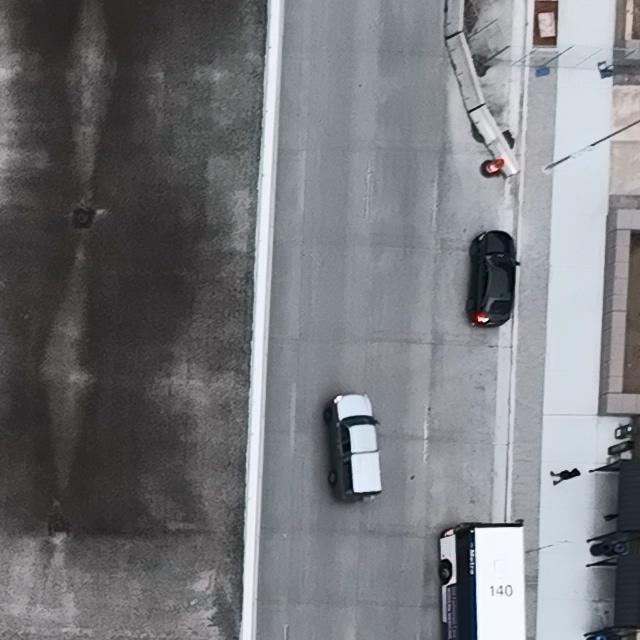car: (439, 519, 527, 640), (324, 392, 384, 502), (464, 232, 520, 327)
